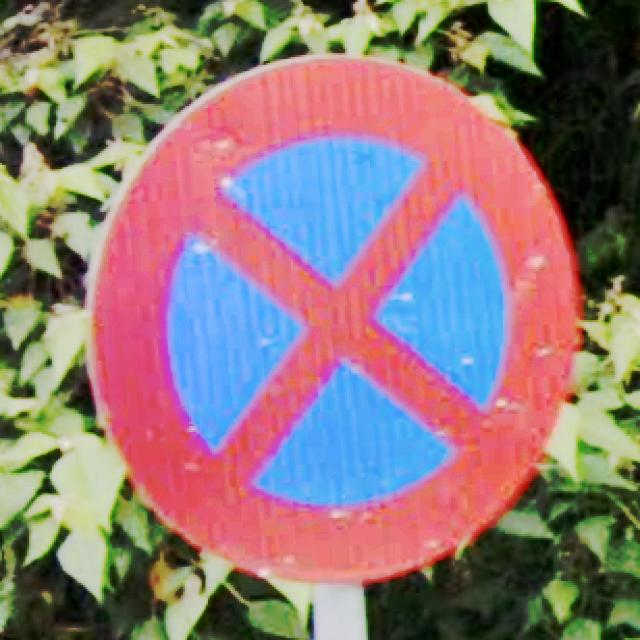nopark: (87, 55, 584, 591)
